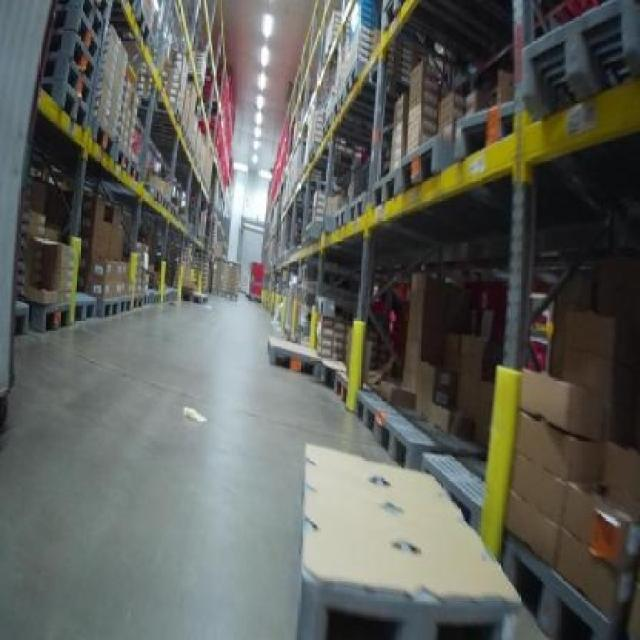pallets: (297, 443, 517, 637)
